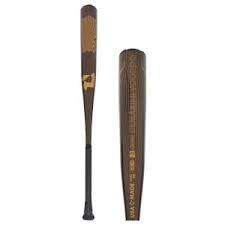baseball bat: (119, 48, 147, 225), (80, 3, 99, 221)
